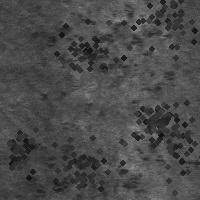rolled-in_scale: (30, 3, 176, 87), (105, 81, 200, 200), (102, 85, 170, 197), (44, 9, 130, 95), (43, 132, 117, 200), (122, 0, 200, 61), (0, 116, 47, 176), (129, 93, 181, 145), (30, 141, 75, 196)
